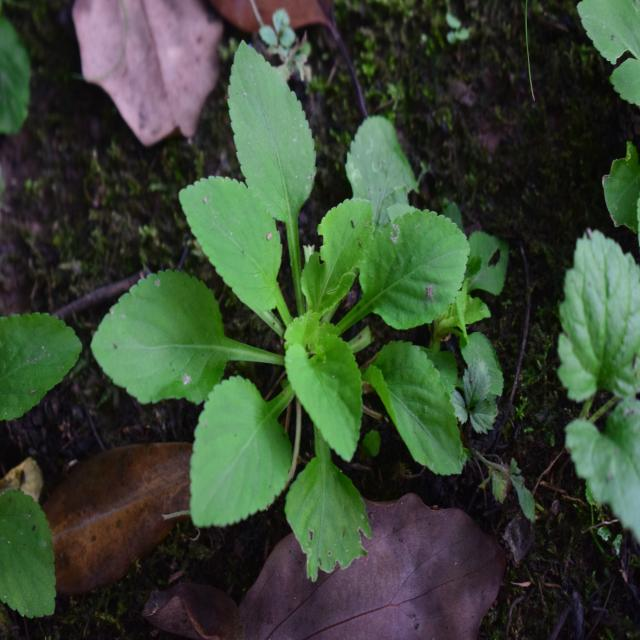Viola: (108, 68, 452, 569)
